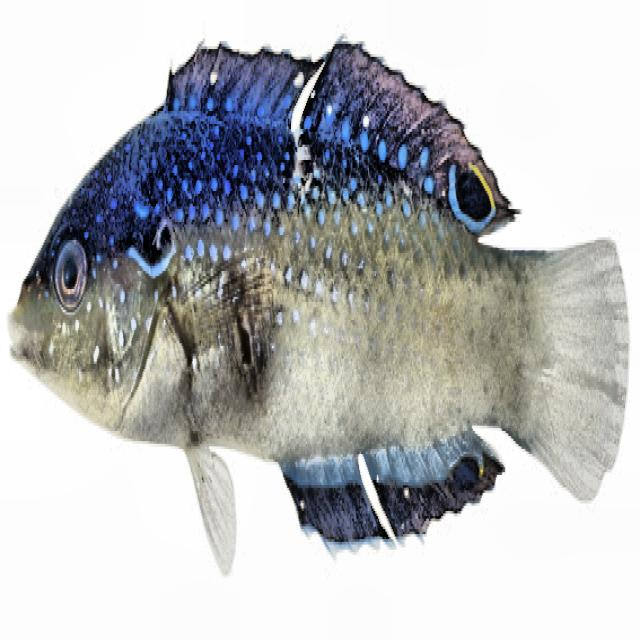fish: (8, 32, 629, 582)
